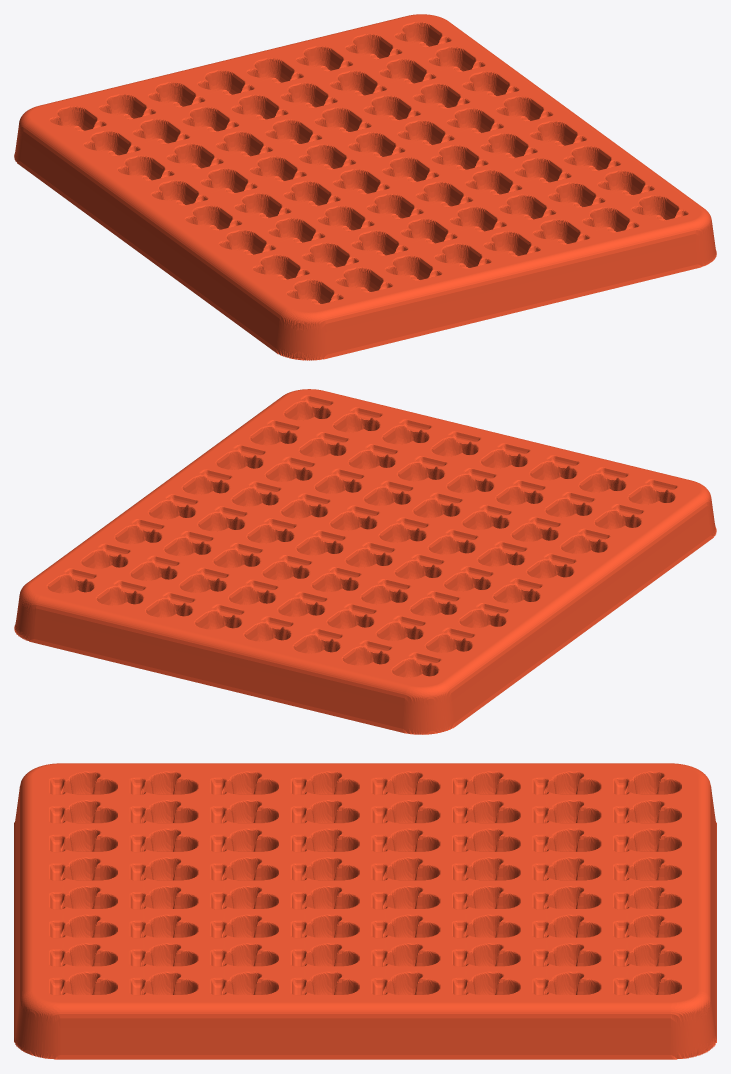
Rendered from mold.glb.
The picture shows the model from 3 angles, top to bottom: view 1: azimuth 30°, elevation 25°; view 2: azimuth 150°, elevation 25°; view 3: azimuth 270°, elevation 25°; orthographic projection. The views are drawn at different scales.
Visible parts, largest first — view 1: geometry_0; view 2: geometry_0; view 3: geometry_0.
Boxes of the visible parts, <box> form: geometry_0: <box>14,14,716,360</box>; geometry_0: <box>14,389,716,734</box>; geometry_0: <box>14,763,716,1059</box>.
Bounding box in the file's own units: 0.1157 × 0.0105 × 0.1355.
